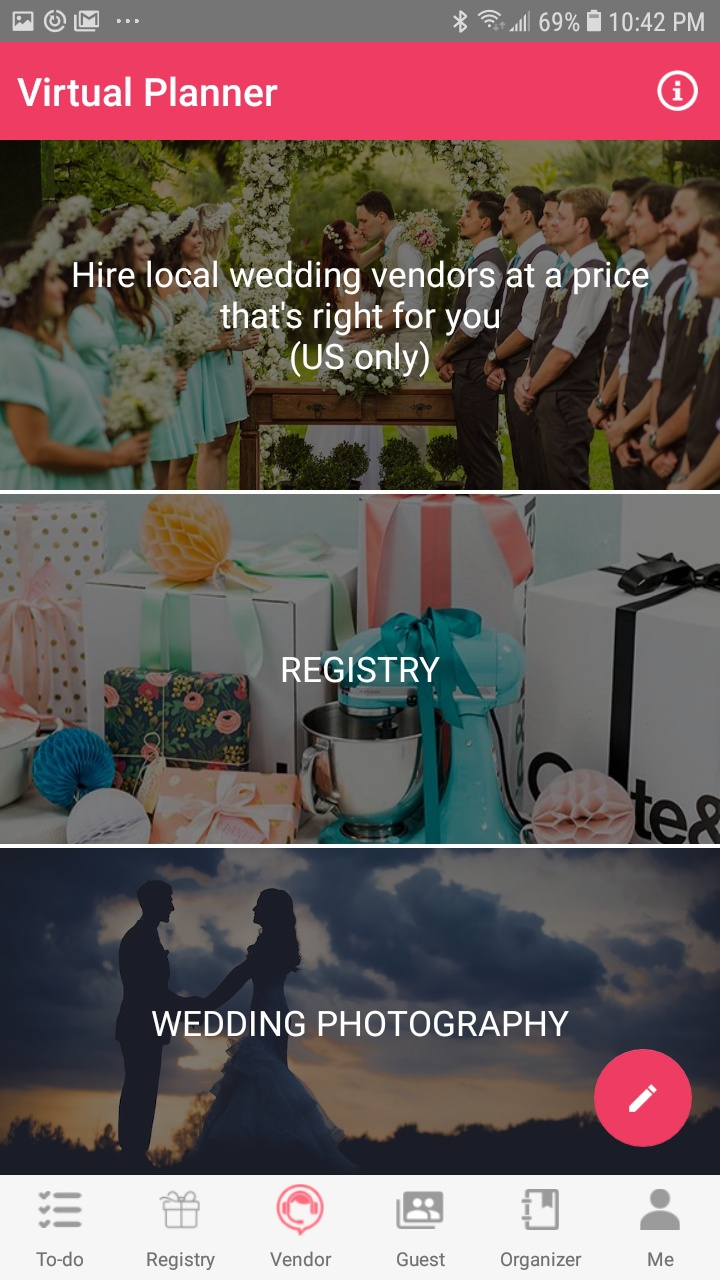Icon: (593, 1048, 693, 1148), (395, 1190, 445, 1230), (656, 70, 699, 113), (640, 1188, 681, 1231), (38, 1190, 83, 1229), (520, 1188, 560, 1231), (159, 1190, 201, 1229)
Image: (1, 141, 720, 491), (1, 494, 720, 844), (1, 848, 720, 1175), (276, 1183, 325, 1236)
Text: (74, 261, 650, 379), (152, 1010, 570, 1037), (16, 77, 279, 109), (282, 656, 441, 684), (500, 1251, 582, 1271), (147, 1251, 217, 1271), (270, 1250, 333, 1267), (396, 1250, 446, 1267), (36, 1250, 85, 1267), (647, 1251, 675, 1267)
UpperTaskBar: (1, 1, 720, 43)
